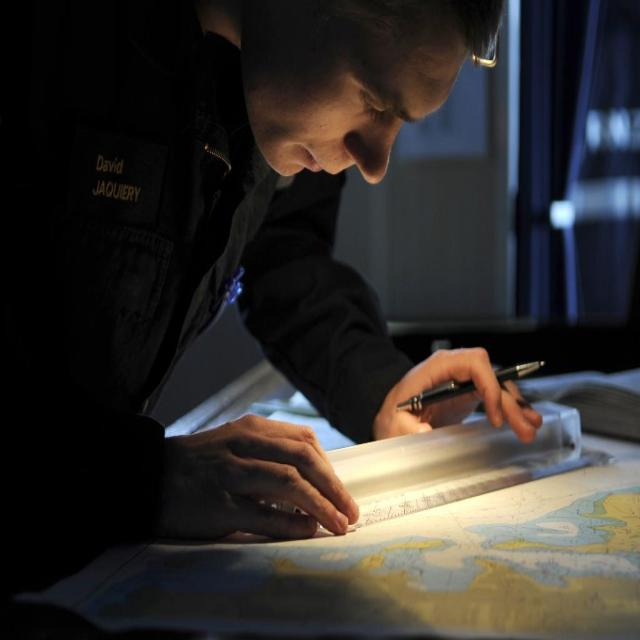pen: (394, 360, 547, 410)
